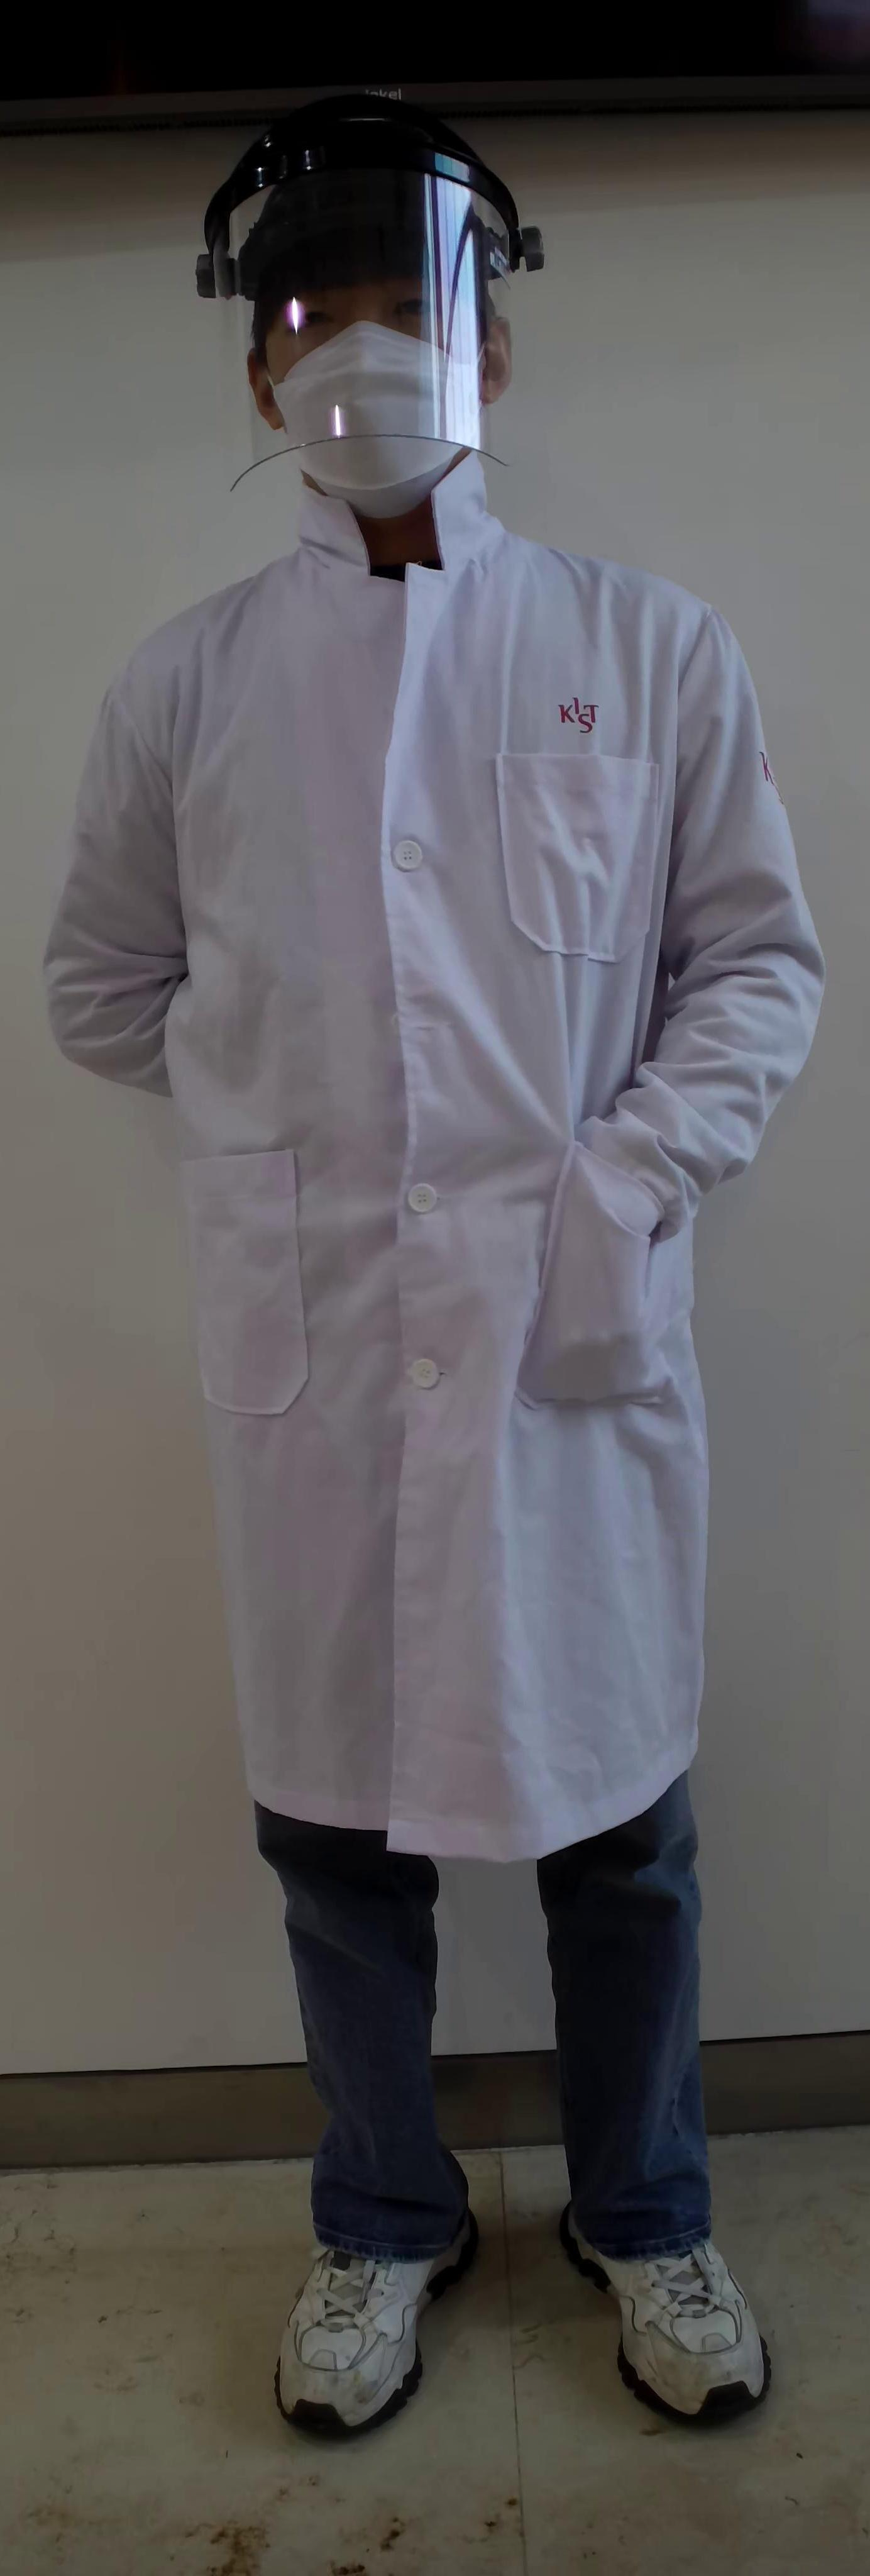lab_coat: (64, 555, 834, 1814)
